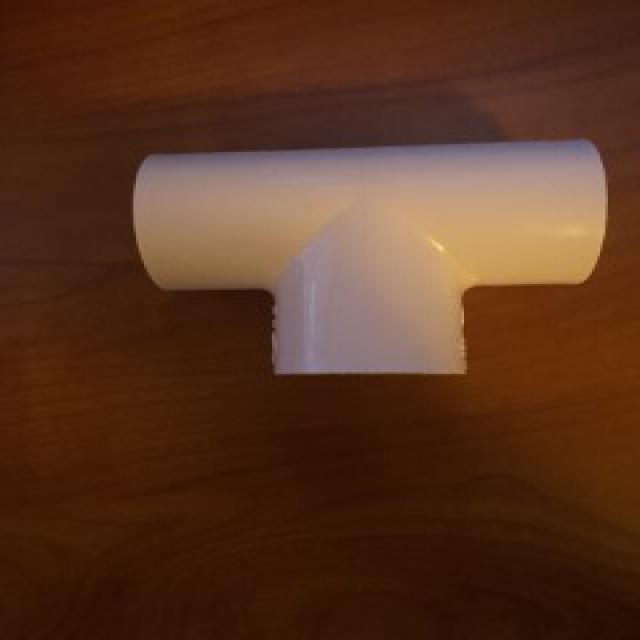T Joint: (130, 139, 609, 380)
